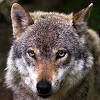Lobo: (4, 2, 96, 94)
